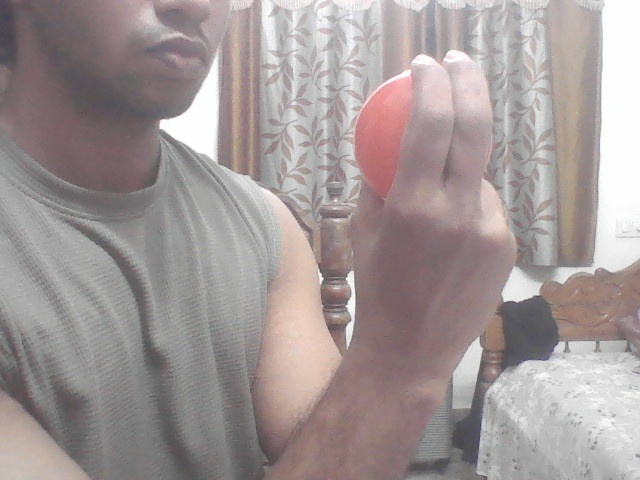cricket_ball: (353, 69, 420, 201)
